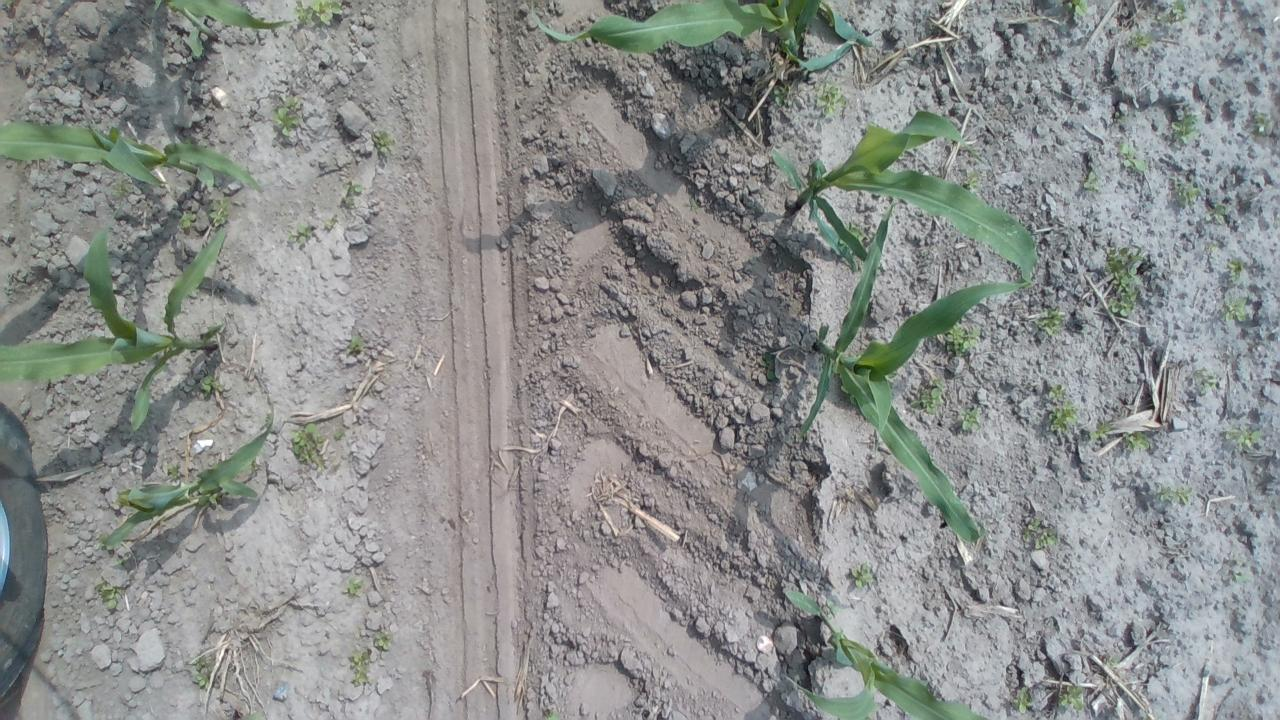Maize: (802, 200, 1038, 546), (0, 220, 226, 432), (771, 106, 1039, 282), (779, 586, 994, 720), (525, 0, 875, 73), (0, 106, 265, 198), (104, 406, 275, 544), (154, 0, 296, 62)
Weeds: (1104, 245, 1145, 319), (286, 420, 326, 472), (1047, 382, 1081, 434), (271, 92, 305, 136), (910, 374, 944, 415), (813, 81, 850, 118), (294, 0, 344, 27), (943, 322, 981, 354), (1022, 516, 1058, 548), (1171, 107, 1201, 144), (1224, 422, 1264, 448), (1033, 305, 1064, 337), (95, 579, 124, 610), (959, 405, 988, 435), (1156, 0, 1188, 25), (1058, 682, 1084, 712), (199, 370, 225, 400), (1120, 143, 1146, 172), (1222, 295, 1249, 322), (350, 649, 368, 687), (192, 655, 212, 689), (208, 196, 230, 226), (850, 564, 876, 589), (1194, 368, 1218, 395), (1158, 486, 1192, 505), (772, 81, 797, 106), (1124, 30, 1154, 50), (1012, 686, 1034, 713), (109, 177, 137, 198), (1123, 432, 1154, 450), (1175, 182, 1200, 204), (373, 127, 395, 152), (286, 222, 312, 243), (110, 485, 132, 509), (959, 168, 982, 190), (342, 574, 364, 597), (96, 531, 120, 552), (758, 356, 777, 382), (1066, 0, 1094, 17), (839, 384, 858, 408), (1088, 422, 1113, 440), (846, 219, 866, 241), (1252, 112, 1272, 134), (373, 630, 392, 652), (1082, 170, 1100, 192), (1228, 258, 1244, 282), (1208, 204, 1226, 225), (197, 494, 218, 509), (178, 212, 196, 229), (164, 462, 180, 480), (826, 598, 840, 618), (344, 180, 362, 194), (348, 334, 363, 350), (1104, 654, 1120, 668), (324, 214, 338, 229), (243, 711, 265, 720), (686, 197, 699, 212), (544, 709, 560, 720), (1232, 572, 1248, 582), (1113, 111, 1125, 124), (330, 431, 344, 441), (113, 556, 128, 565), (774, 39, 784, 52), (117, 201, 129, 209), (768, 60, 776, 70), (1208, 243, 1216, 250)
